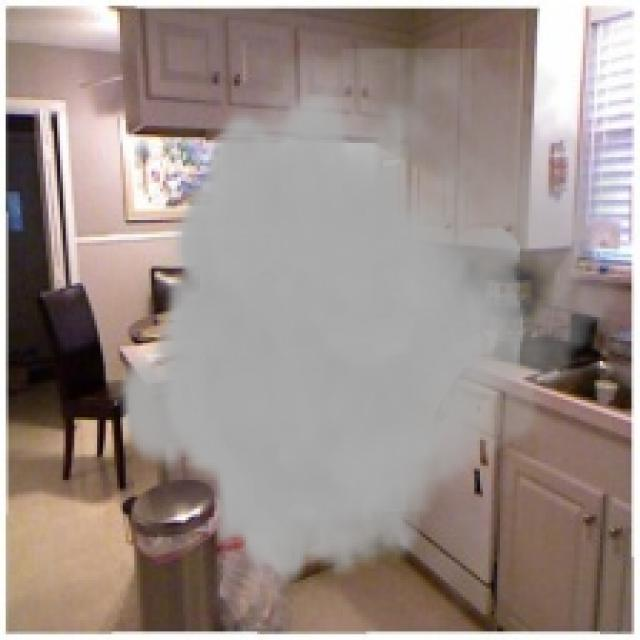smoke: (114, 49, 637, 588)
